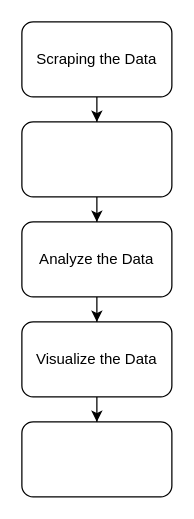
Some shapes in this 194 by 519 pixel diagram are drawn without their labels. Here are the shapes that lost their labels. From the top down, the centre of each, then its label:
At [96,159]: "Cleaning the Data".
At [96,459]: "Interactive Dashboard".
